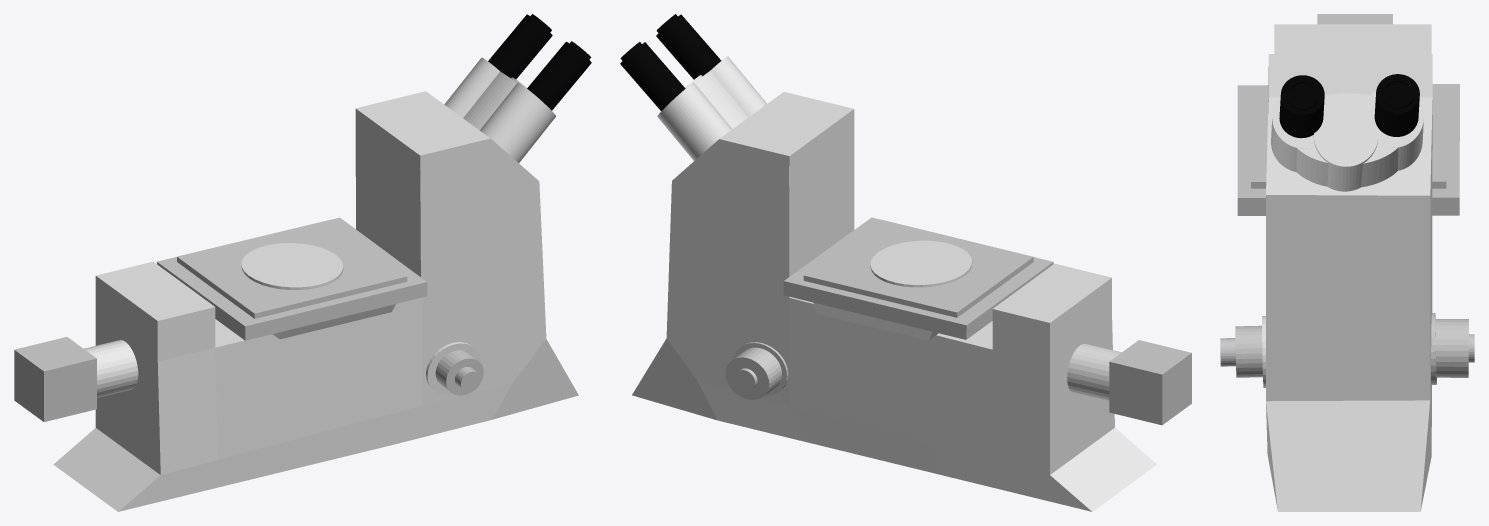
Rendered from микроскоп.fbx.
The picture shows the model from 3 angles, left to right: view 1: azimuth 30°, elevation 25°; view 2: azimuth 150°, elevation 25°; view 3: azimuth 270°, elevation 25°; orthographic projection. The views are drawn at different scales.
Parts seen in each view (by area): view 1: Плоскость, Cube.001, Cube, Cube.003, Цилиндр.001, Cylinder.005, Cylinder.002, Cylinder.010, Cylinder.003, Cylinder.004, Cylinder.009, Cube.002 (+1 smaller); view 2: Плоскость, Cube.001, Cube, Cube.003, Цилиндр.001, Cylinder.005, Cylinder.003, Cylinder.010, Cylinder.006, Cylinder.002, Cylinder.004, Cube.002; view 3: Плоскость, Цилиндр.001, Cube, Cylinder.011, Cube.001, Cylinder.004, Cylinder.006, Cylinder.002, Cylinder.009, Cylinder.003, Cube.003, Cylinder.008 (+1 smaller).
Part boxes in pixels (left/top/right/bottom): Плоскость: left=53, top=91, right=578, bottom=511; Cube.001: left=177, top=219, right=407, bottom=318; Cube: left=157, top=217, right=427, bottom=340; Cube.003: left=14, top=337, right=96, bottom=421; Цилиндр.001: left=488, top=14, right=591, bottom=110; Cylinder.005: left=241, top=243, right=343, bottom=289; Cylinder.002: left=480, top=83, right=555, bottom=162; Cylinder.010: left=84, top=340, right=138, bottom=397; Cylinder.003: left=444, top=57, right=499, bottom=117; Cylinder.004: left=420, top=71, right=516, bottom=199; Cylinder.009: left=435, top=350, right=483, bottom=395; Cube.002: left=272, top=304, right=395, bottom=339; Плоскость: left=632, top=92, right=1156, bottom=511; Cube.001: left=803, top=219, right=1033, bottom=317; Cube: left=783, top=217, right=1053, bottom=339; Cube.003: left=1109, top=340, right=1191, bottom=425; Цилиндр.001: left=620, top=14, right=721, bottom=111; Cylinder.005: left=870, top=240, right=972, bottom=287; Cylinder.003: left=657, top=82, right=732, bottom=160; Cylinder.010: left=1067, top=343, right=1121, bottom=401; Cylinder.006: left=725, top=347, right=781, bottom=399; Cylinder.002: left=710, top=56, right=766, bottom=116; Cylinder.004: left=695, top=70, right=789, bottom=185; Cube.002: left=813, top=302, right=938, bottom=340; Плоскость: left=1266, top=24, right=1432, bottom=511; Цилиндр.001: left=1279, top=74, right=1419, bottom=138; Cube: left=1237, top=84, right=1459, bottom=215; Cylinder.011: left=1313, top=103, right=1378, bottom=191; Cube.001: left=1251, top=86, right=1446, bottom=188; Cylinder.004: left=1296, top=93, right=1398, bottom=187; Cylinder.006: left=1435, top=319, right=1468, bottom=377; Cylinder.002: left=1271, top=93, right=1334, bottom=171; Cylinder.009: left=1235, top=325, right=1262, bottom=377; Cylinder.003: left=1364, top=90, right=1423, bottom=170; Cube.003: left=1317, top=14, right=1392, bottom=24; Cylinder.008: left=1220, top=338, right=1235, bottom=366.
Size of the model in its own units: 242 by 148 by 78.
